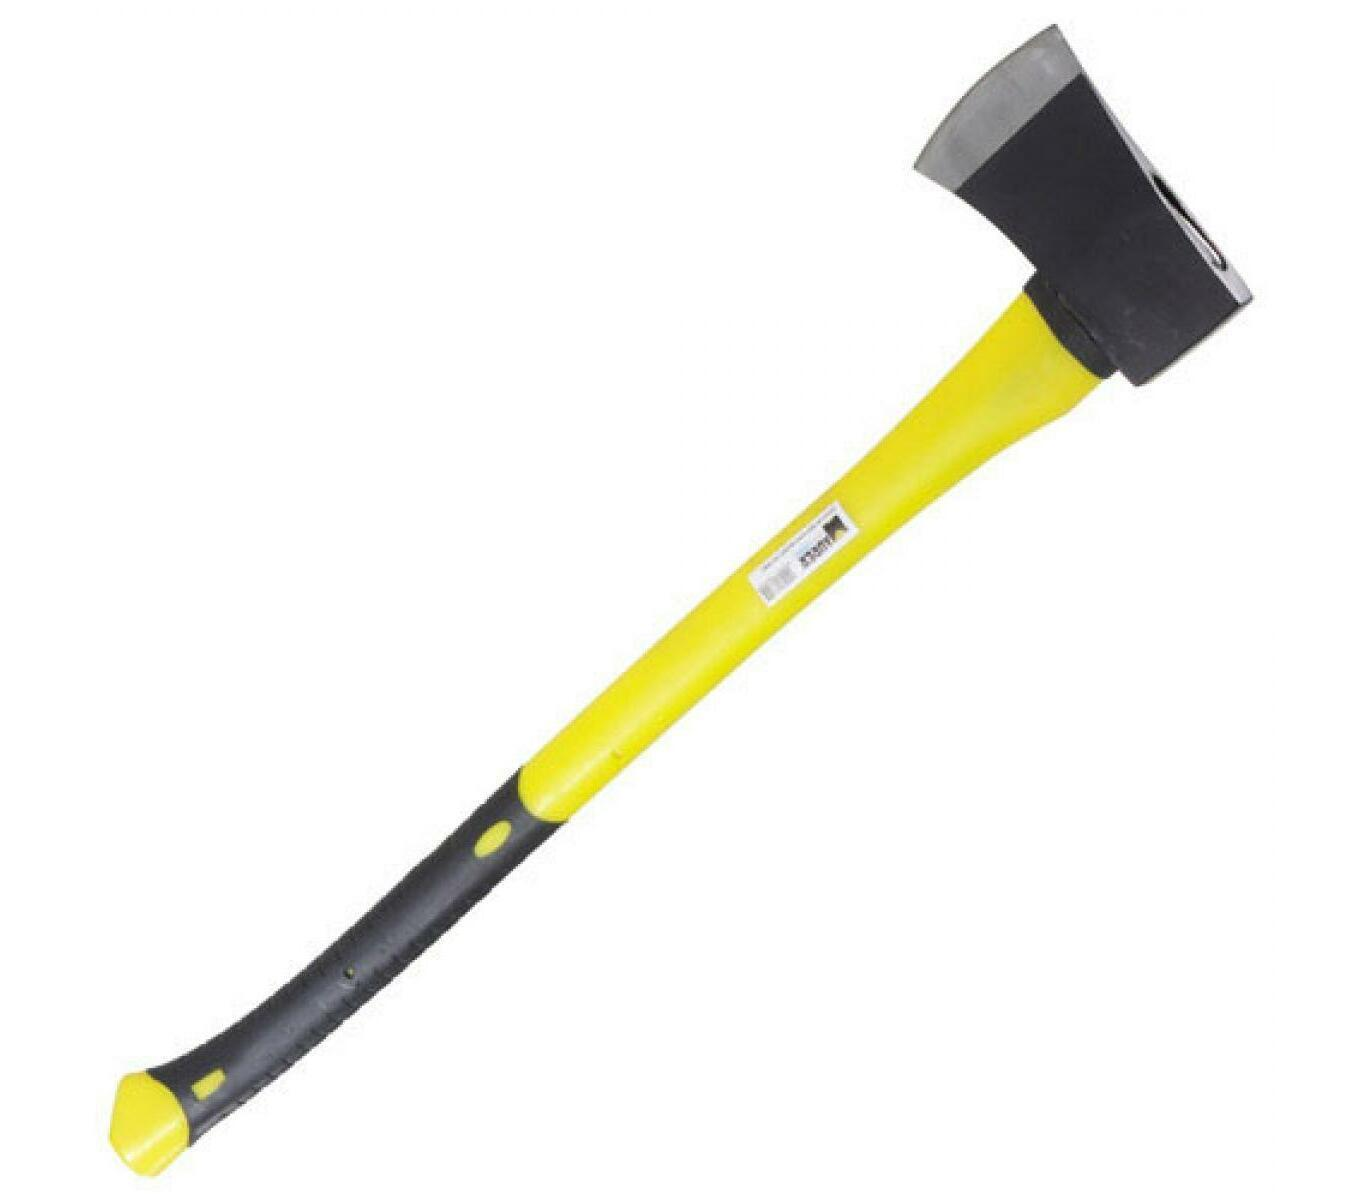machado: (108, 26, 1249, 1176)
